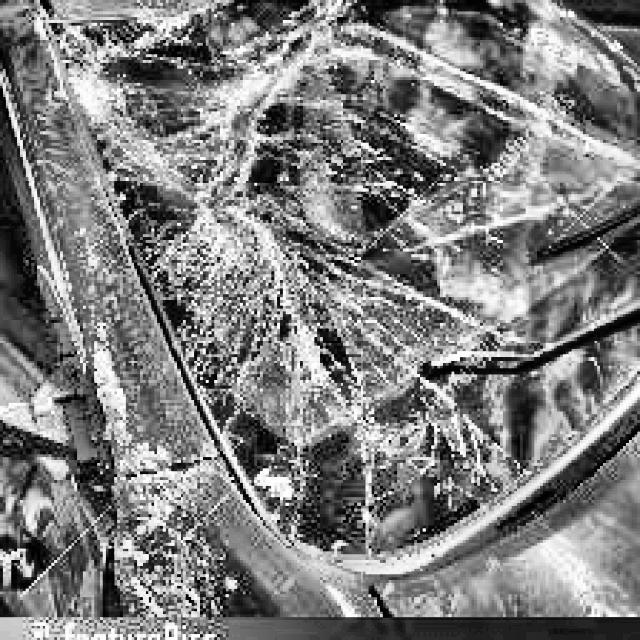glass_shatter: (82, 20, 422, 427)
